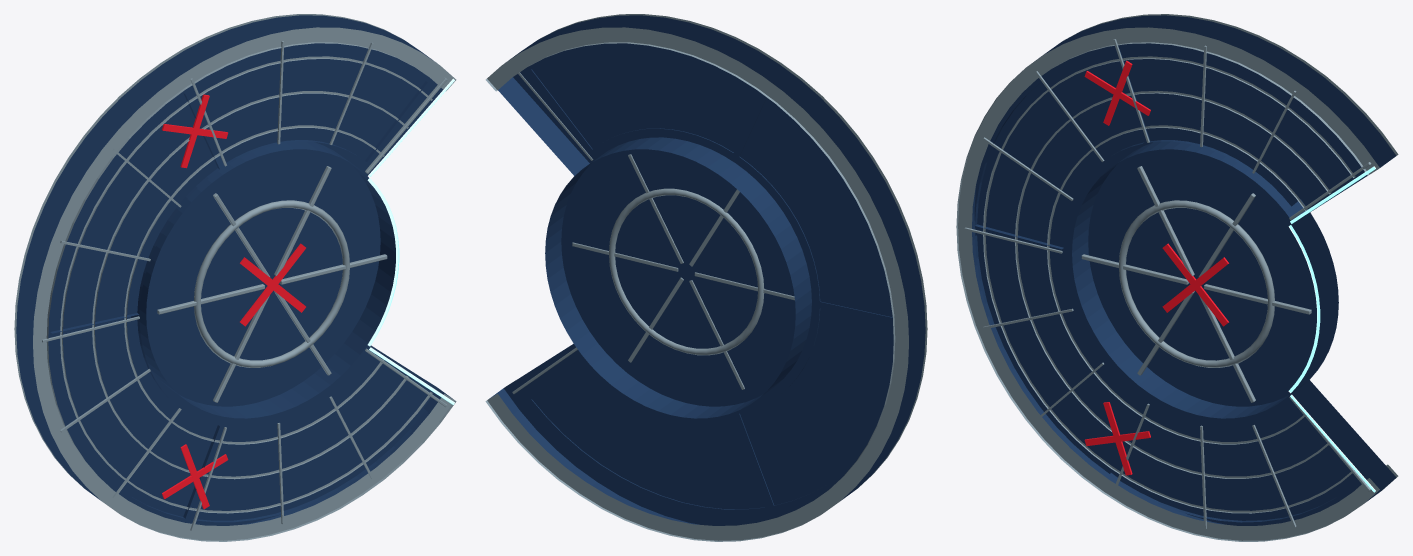
The model's file is foundry-panel-fun0-high.glb.
The picture shows the model from 3 angles, left to right: view 1: azimuth 30°, elevation 25°; view 2: azimuth 150°, elevation 25°; view 3: azimuth 330°, elevation 25°; orthographic projection.
Parts seen in each view (by area): view 1: RENDER_PANEL_SHELL, RENDER_PANEL_FRAME, RENDER_PANEL_HAZARD, RENDER_PANEL_SIGNAL; view 2: RENDER_PANEL_SHELL, RENDER_PANEL_FRAME; view 3: RENDER_PANEL_SHELL, RENDER_PANEL_FRAME, RENDER_PANEL_HAZARD, RENDER_PANEL_SIGNAL.
Part boxes in pixels (<box>): RENDER_PANEL_SHELL: <box>16,15,452,525</box>; RENDER_PANEL_FRAME: <box>14,14,456,541</box>; RENDER_PANEL_HAZARD: <box>162,94,305,509</box>; RENDER_PANEL_SIGNAL: <box>367,78,454,404</box>; RENDER_PANEL_SHELL: <box>489,15,925,525</box>; RENDER_PANEL_FRAME: <box>485,14,927,541</box>; RENDER_PANEL_SHELL: <box>972,15,1396,525</box>; RENDER_PANEL_FRAME: <box>956,14,1398,541</box>; RENDER_PANEL_HAZARD: <box>1084,61,1228,475</box>; RENDER_PANEL_SIGNAL: <box>1288,166,1375,492</box>.
Size of what is drawn, in the model's own units: 36.2 by 41 by 3.09.
